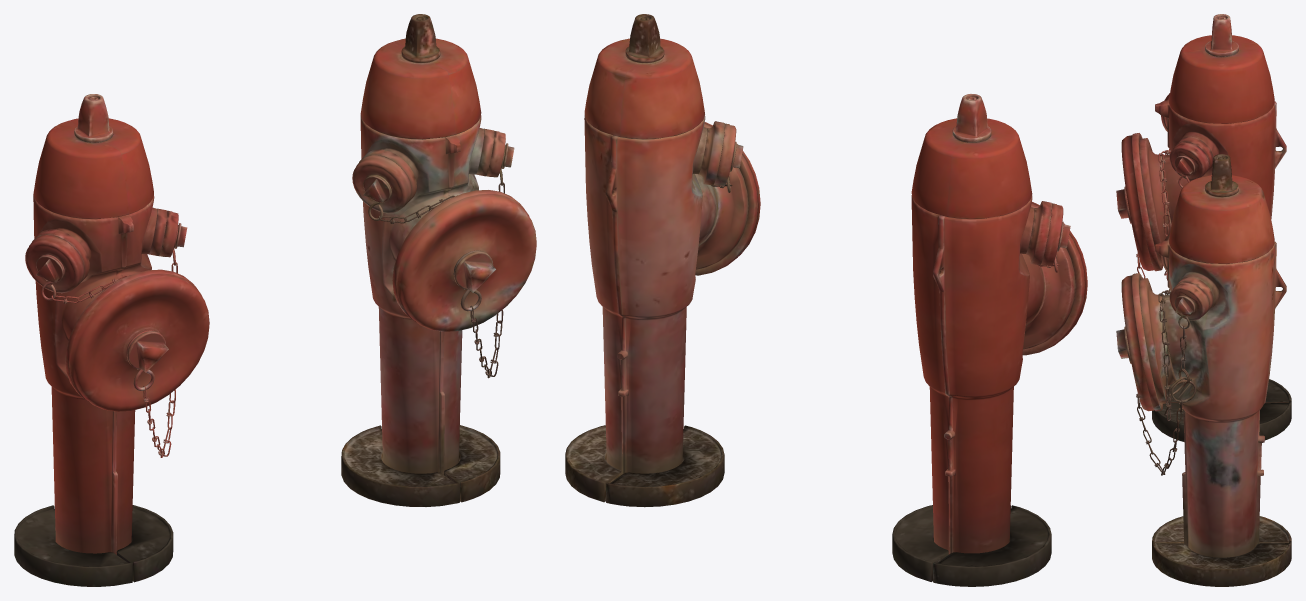
The model's file is fire_hydrant.glb.
3 renders of one model, left to right at view 1: azimuth 30°, elevation 25°; view 2: azimuth 150°, elevation 25°; view 3: azimuth 270°, elevation 25°, orthographic. The views are drawn at different scales.
Parts seen in each view (by area): view 1: fire_hydrant, fire_hydrant_aged; view 2: fire_hydrant_aged, fire_hydrant; view 3: fire_hydrant_aged, fire_hydrant.
Part boxes in pixels (box(x1,y1,x2,y2)): fire_hydrant: box(14, 94, 209, 586); fire_hydrant_aged: box(341, 14, 536, 506); fire_hydrant_aged: box(565, 14, 760, 507); fire_hydrant: box(892, 94, 1087, 586); fire_hydrant_aged: box(1116, 154, 1291, 586); fire_hydrant: box(1116, 14, 1291, 441).
Bounding box in the file's own units: 0.8747 × 0.7995 × 0.3173.
Materials: 2 (2 with a texture image).
